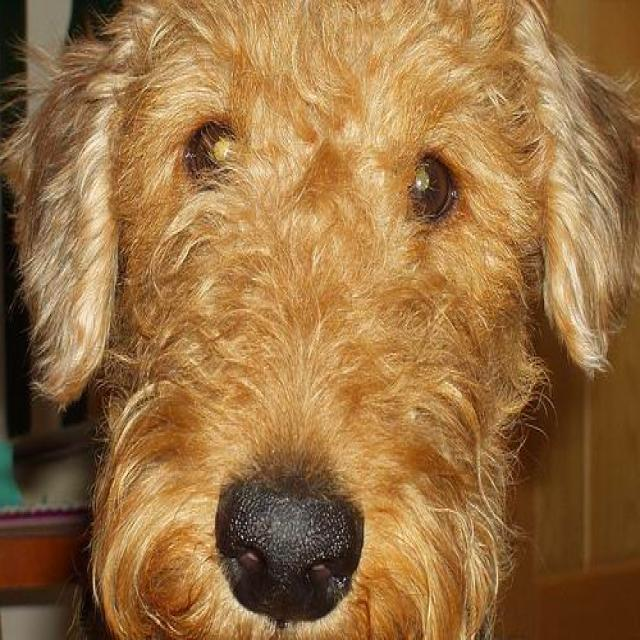airedale: (3, 0, 638, 638)
